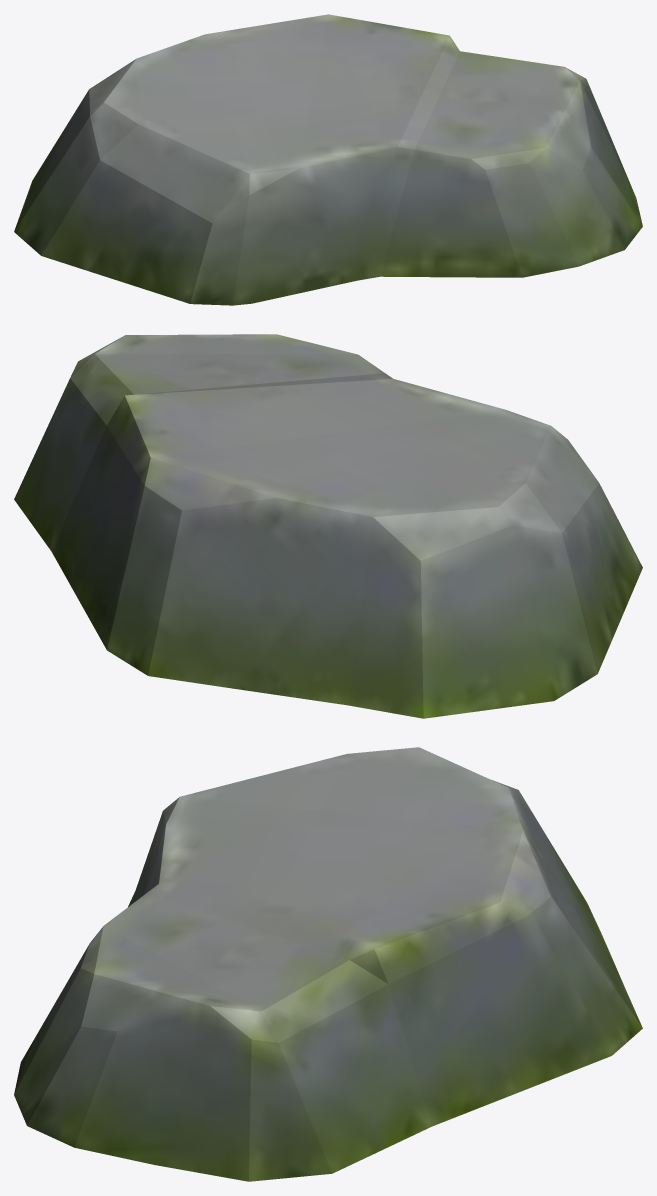
Rendered from pebble-5.glb.
3 renders of one model, top to bottom at view 1: azimuth 30°, elevation 25°; view 2: azimuth 150°, elevation 25°; view 3: azimuth 270°, elevation 25°, orthographic. The views are drawn at different scales.
Visible parts, largest first — view 1: Cube_017_Retopology_007; view 2: Cube_017_Retopology_007; view 3: Cube_017_Retopology_007.
Boxes of the visible parts, x1,y1,x2,y2 form: Cube_017_Retopology_007: (14,14,642,305); Cube_017_Retopology_007: (14,334,642,718); Cube_017_Retopology_007: (14,747,642,1181).
Size of the model in its own units: 0.4186 by 0.1008 by 0.3463.
Materials: 1 (1 with a texture image).
